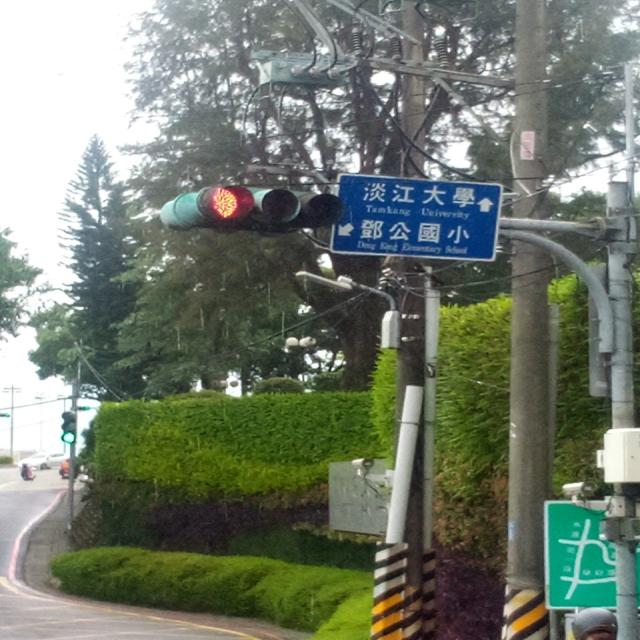red light: (161, 186, 344, 231)
